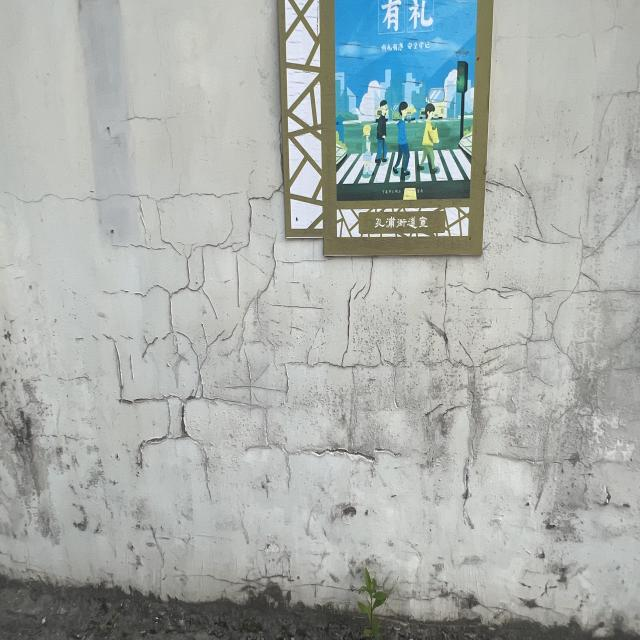crack: (98, 329, 219, 470), (135, 215, 227, 328), (5, 183, 245, 210), (444, 278, 639, 310)
mildew: (1, 374, 59, 536)
